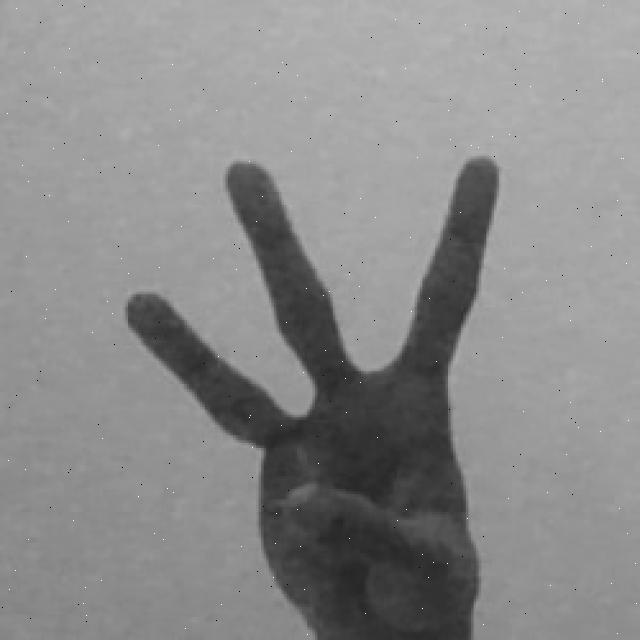W: (120, 146, 510, 627)
